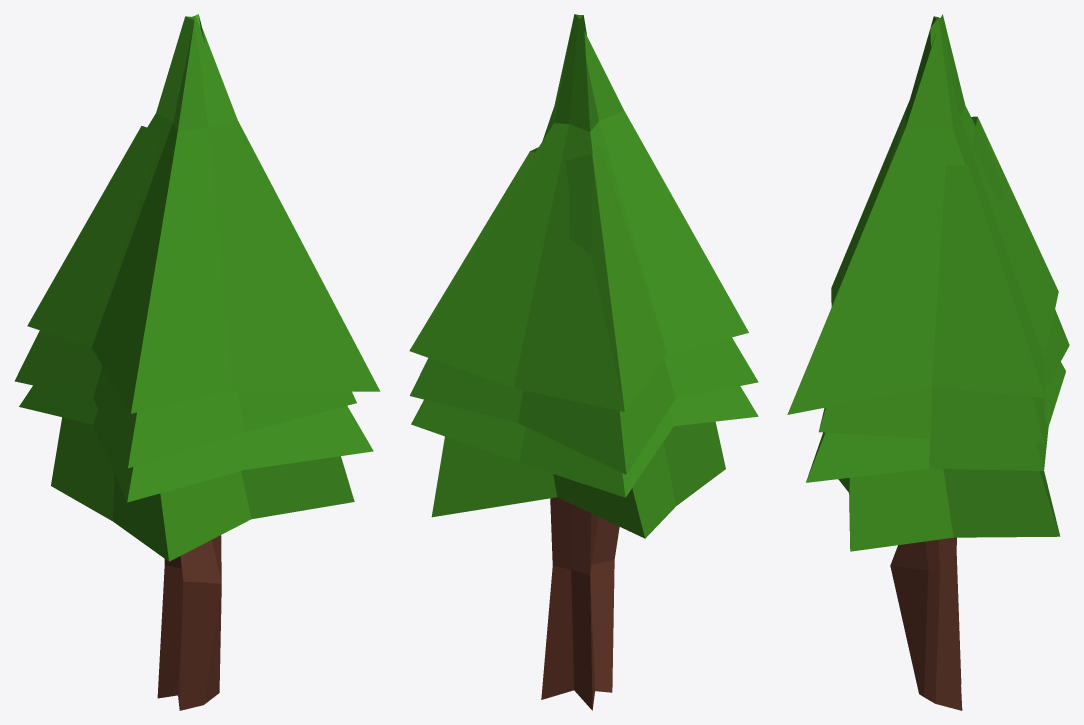
File: Tree_small_01.fbx
3 views of the same model, side by side, from view 1: azimuth 30°, elevation 25°; view 2: azimuth 150°, elevation 25°; view 3: azimuth 270°, elevation 25° (orthographic).
Parts seen in each view (by area): view 1: Tree_small_01; view 2: Tree_small_01; view 3: Tree_small_01.
Part boxes in pixels (bbox=[...]): Tree_small_01: bbox=[15, 14, 380, 710]; Tree_small_01: bbox=[409, 14, 758, 710]; Tree_small_01: bbox=[787, 14, 1069, 710].
Bounding box in the file's own units: 3.14 × 8.55 × 3.21.
